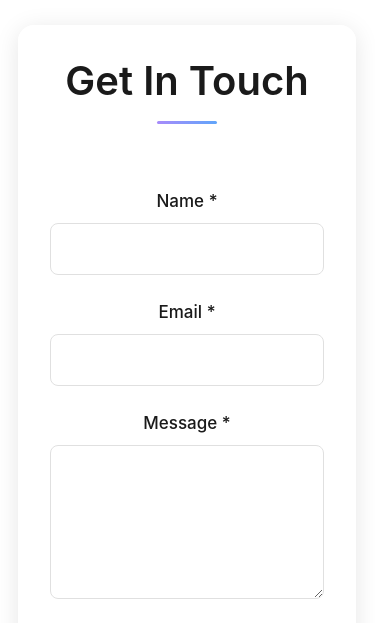
ContactSection › Validation › shows error on blur when message is empty
Click the text box labelled "Message *" at (187, 522), box [50,445,324,599]
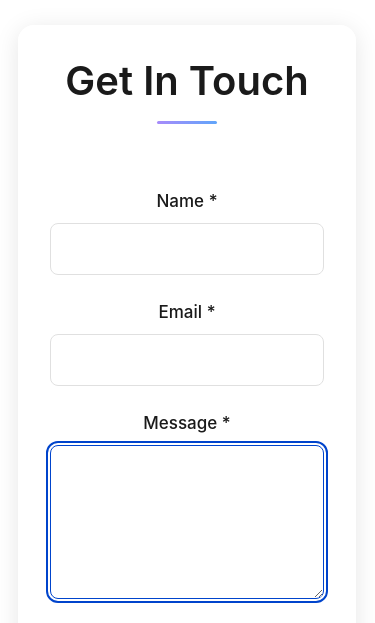
Press Tab
(page scrolled)
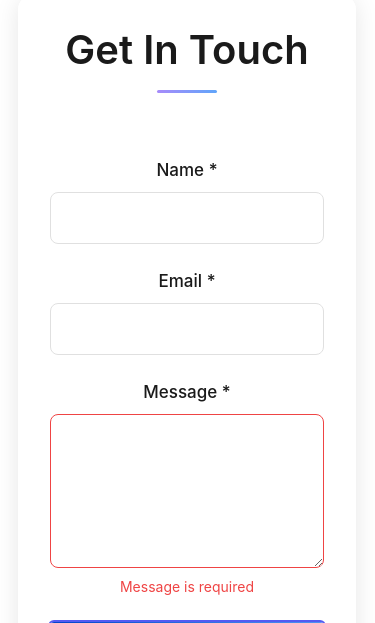
Expected: the message reads "Message is required", [120,578,254,595]
